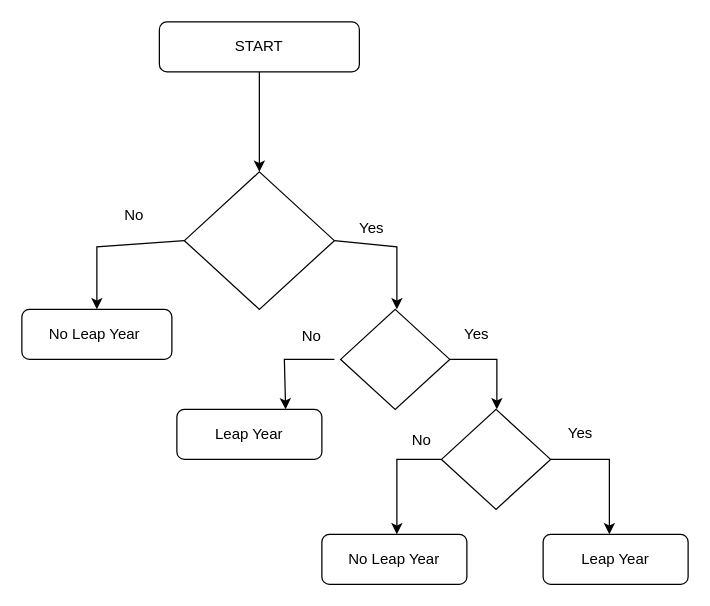
The diagram is 710 pixels wide and 606 high, and some of its shapes have lost their labels. The box of each missing label's shape, as (x1, y1, x2, y2) in pixels:
Div by 100: (339, 308, 450, 409)
Div by 4: (183, 171, 334, 309)
Div by 400: (440, 408, 551, 509)
